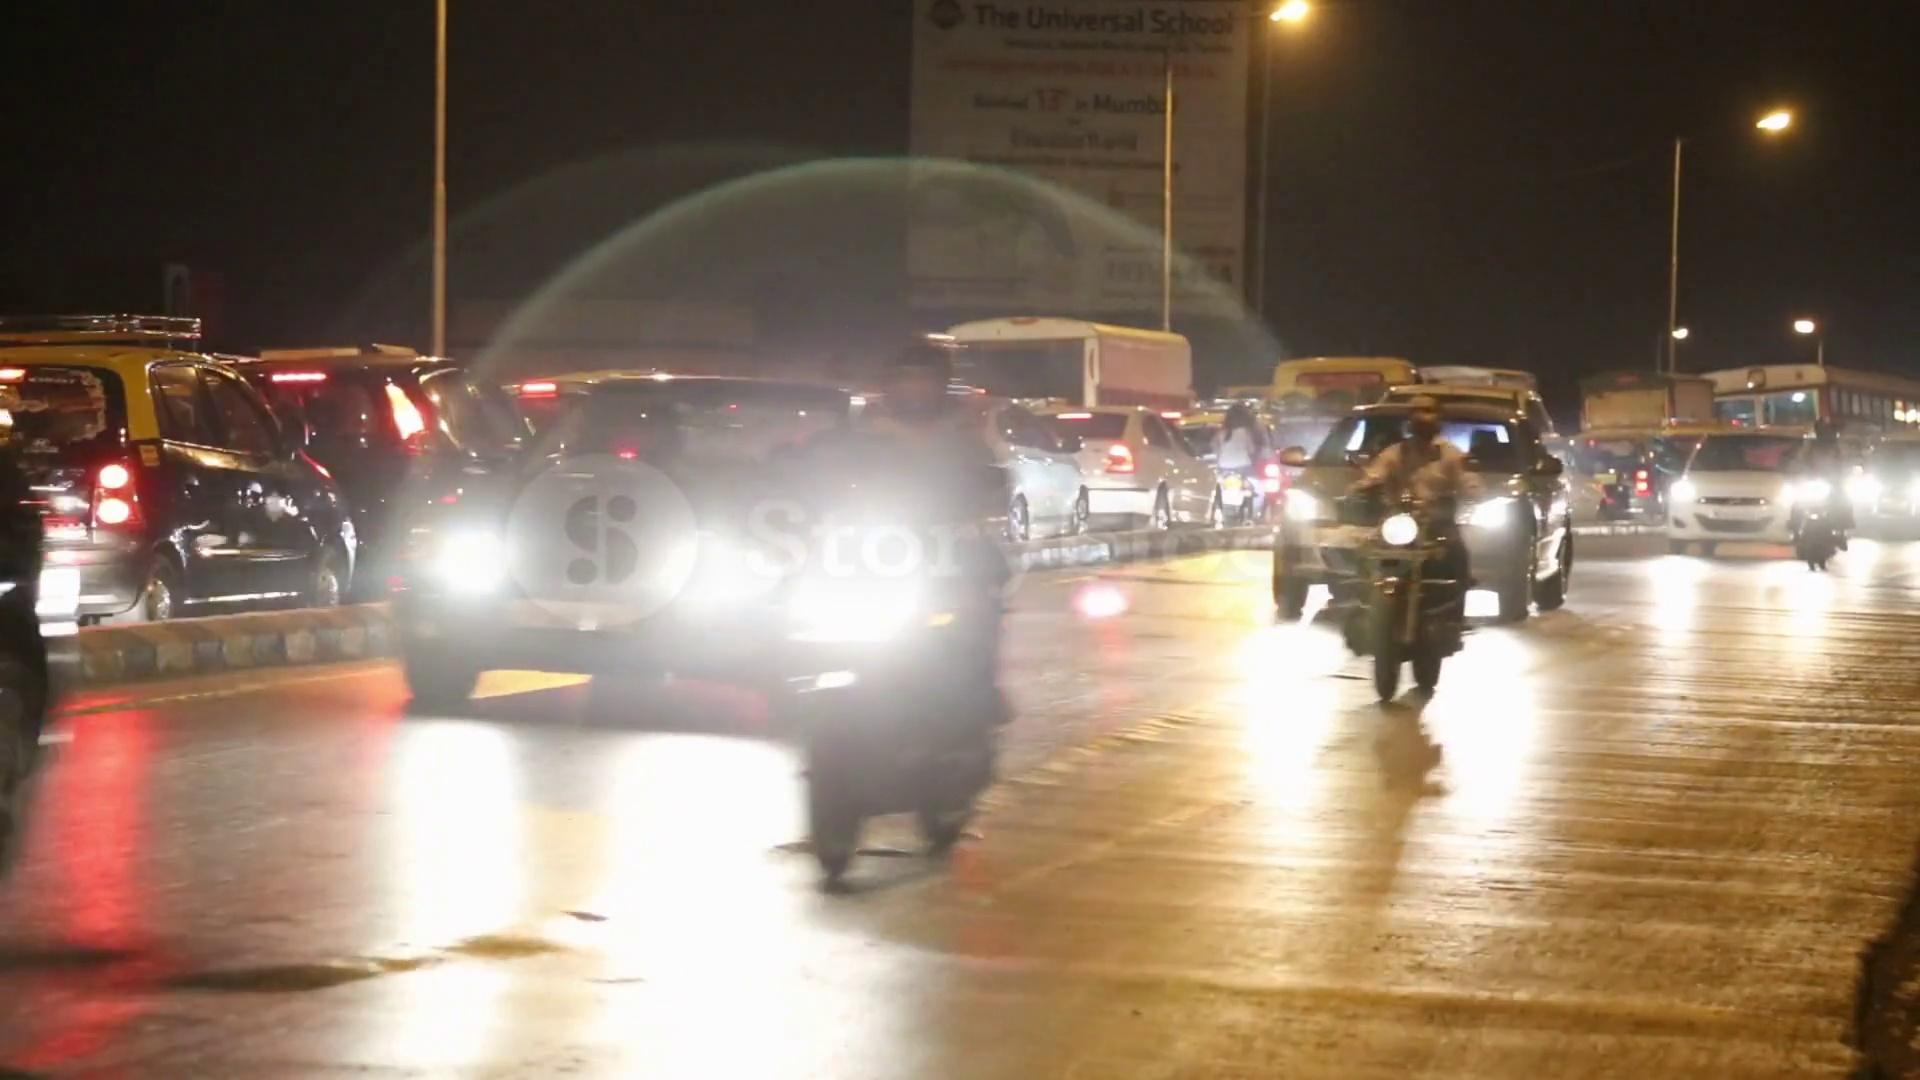rider: (775, 340, 1016, 888), (1345, 394, 1484, 651), (1797, 417, 1859, 574)
with_helmate: (867, 336, 957, 419)
without_helmate: (1397, 397, 1440, 434)
